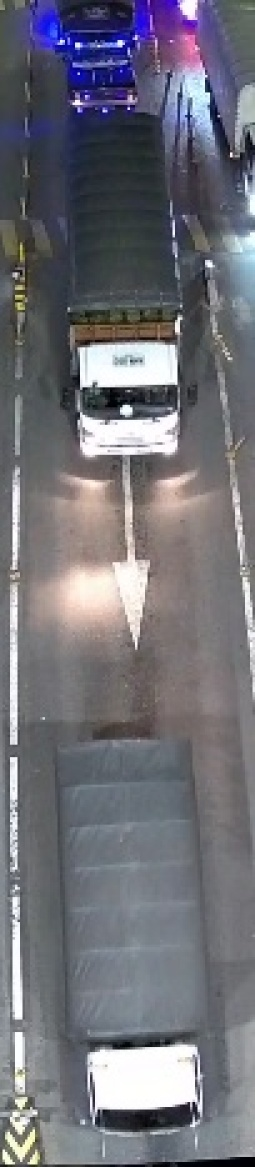truck: (52, 731, 221, 1138), (60, 108, 186, 465), (47, 1, 150, 110)
